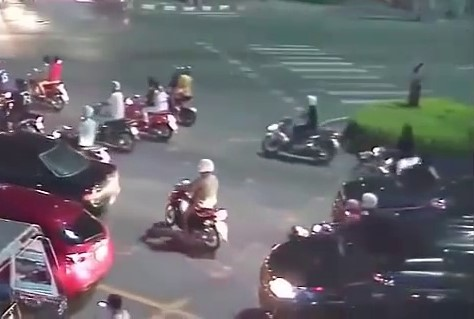car: (258, 205, 474, 313), (1, 178, 116, 292), (1, 132, 122, 216)
motorbike: (164, 158, 223, 253), (264, 95, 338, 164), (83, 81, 138, 156), (56, 107, 111, 173), (122, 78, 178, 140), (1, 83, 46, 137), (160, 64, 197, 129), (26, 58, 69, 108)
